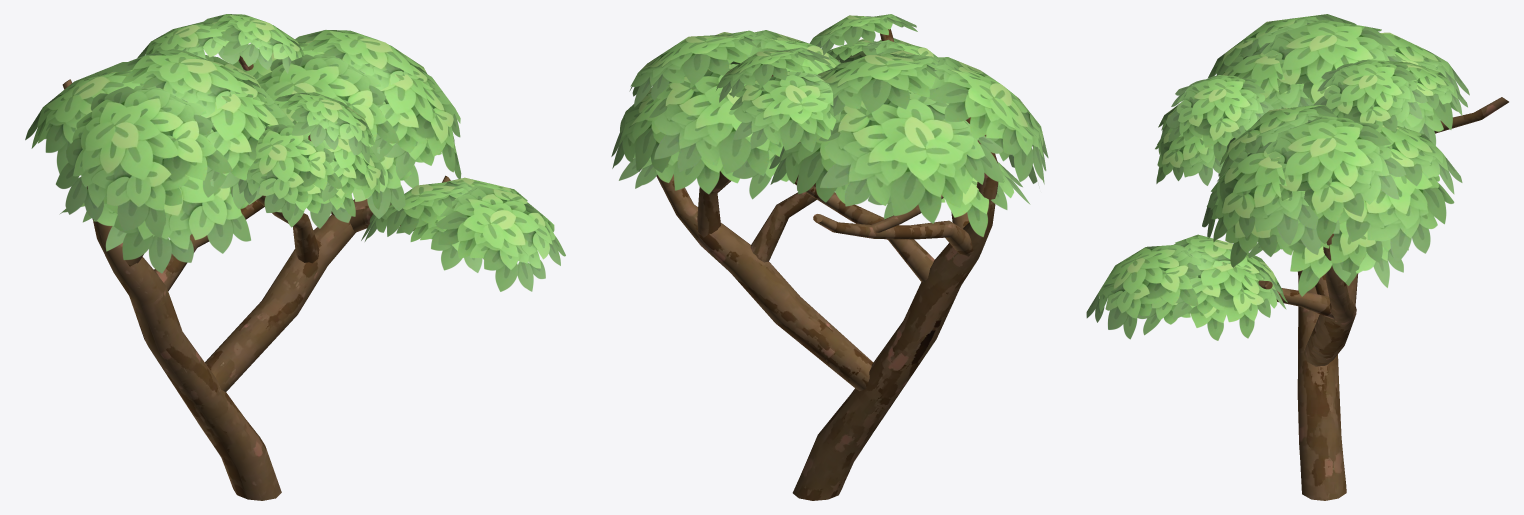
File: tree-3.glb
3 renders of one model, left to right at view 1: azimuth 30°, elevation 25°; view 2: azimuth 150°, elevation 25°; view 3: azimuth 270°, elevation 25°, orthographic. The views are drawn at different scales.
Visible parts, largest first — view 1: Tree_3; view 2: Tree_3; view 3: Tree_3.
Part boxes in pixels (bbox=[...]): Tree_3: bbox=[25, 14, 565, 500]; Tree_3: bbox=[611, 14, 1048, 500]; Tree_3: bbox=[1086, 14, 1508, 500].
Bounding box in the file's own units: 5.78 × 5.72 × 5.17.
2 materials, 2 textured.
